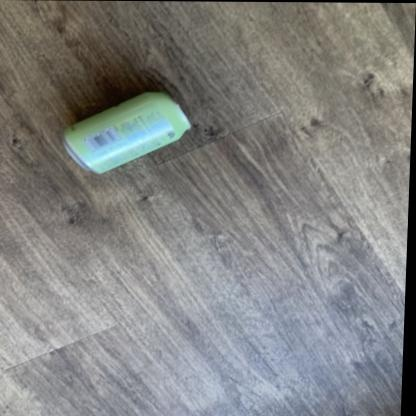trash: (64, 92, 190, 173)
